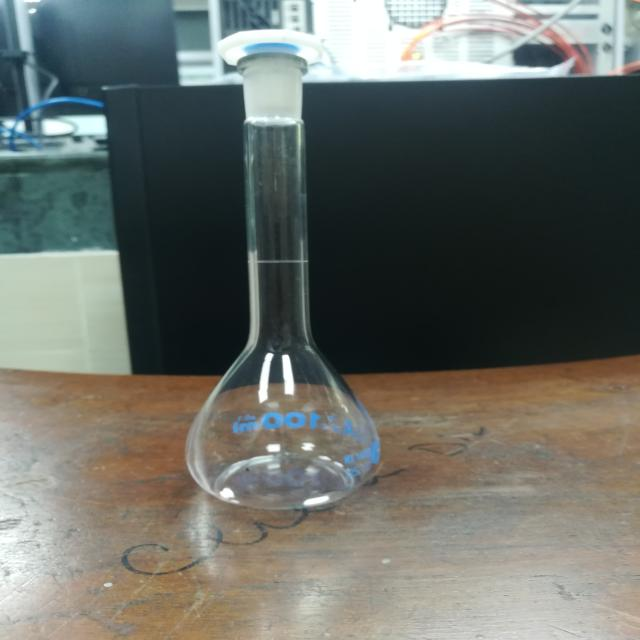Volumetric_Flask: (144, 8, 414, 537)
